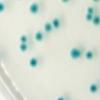Blue_green: (27, 55, 39, 69), (69, 46, 80, 61), (27, 3, 40, 15), (88, 81, 99, 94), (34, 30, 44, 44), (52, 16, 62, 29), (19, 42, 28, 54), (92, 15, 100, 28), (85, 49, 93, 61), (43, 22, 52, 32), (83, 13, 92, 22), (0, 2, 6, 14), (19, 32, 27, 41), (86, 6, 95, 14), (55, 94, 67, 100), (60, 0, 69, 4), (92, 0, 100, 4)
